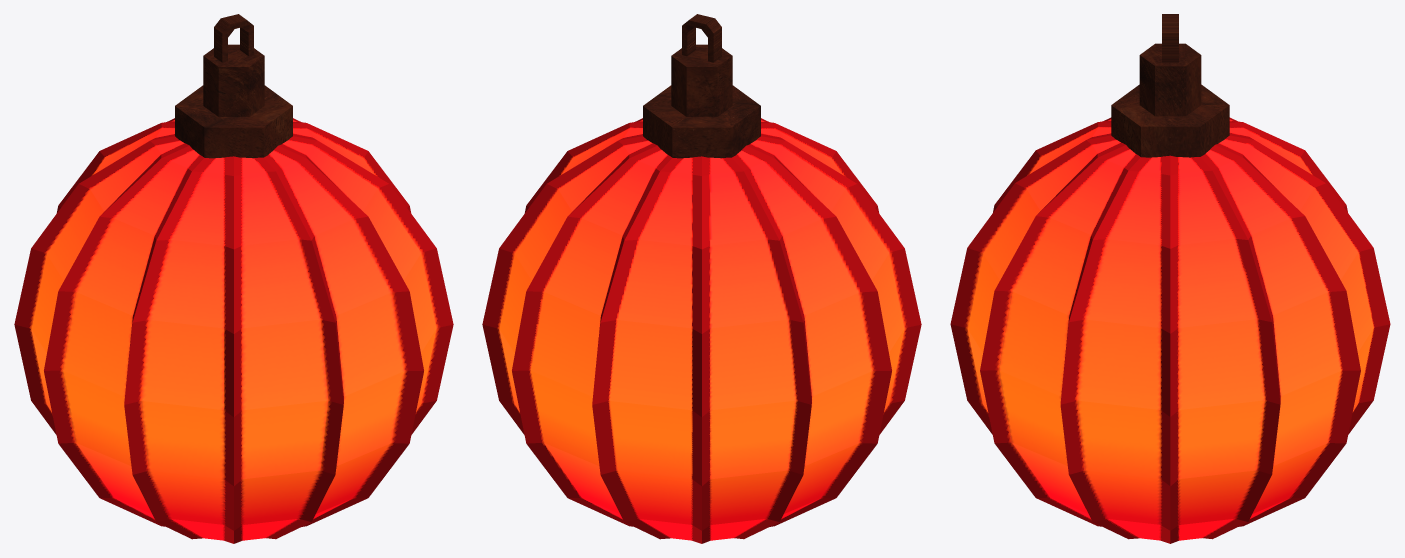
Rendered from LanternaJRedonda.fbx.
The picture shows the model from 3 angles, left to right: view 1: azimuth 30°, elevation 25°; view 2: azimuth 150°, elevation 25°; view 3: azimuth 270°, elevation 25°; orthographic projection.
Visible parts, largest first — view 1: LanternaPapeljaponesaRedonda; view 2: LanternaPapeljaponesaRedonda; view 3: LanternaPapeljaponesaRedonda.
Boxes of the visible parts, box(x1,y1,x2,y2) form: LanternaPapeljaponesaRedonda: box(14, 14, 453, 543); LanternaPapeljaponesaRedonda: box(482, 14, 921, 543); LanternaPapeljaponesaRedonda: box(950, 14, 1390, 543).
Size of the model in its own units: 52.98 by 67.12 by 52.98.
